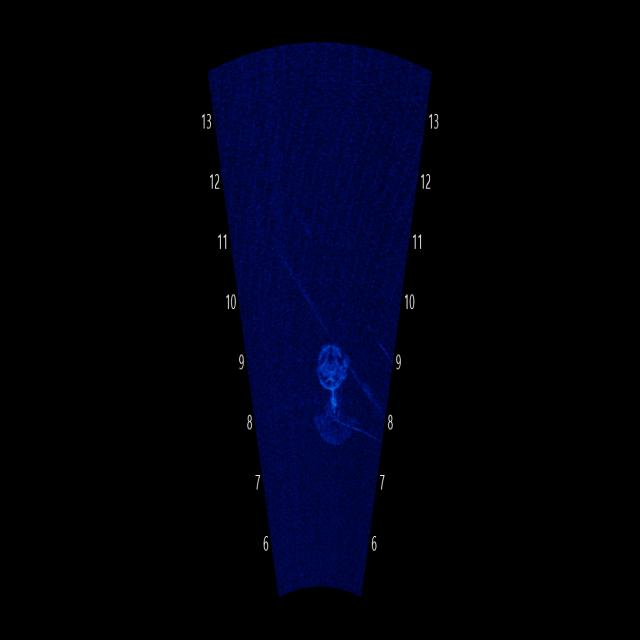circle: (308, 317, 356, 407)
